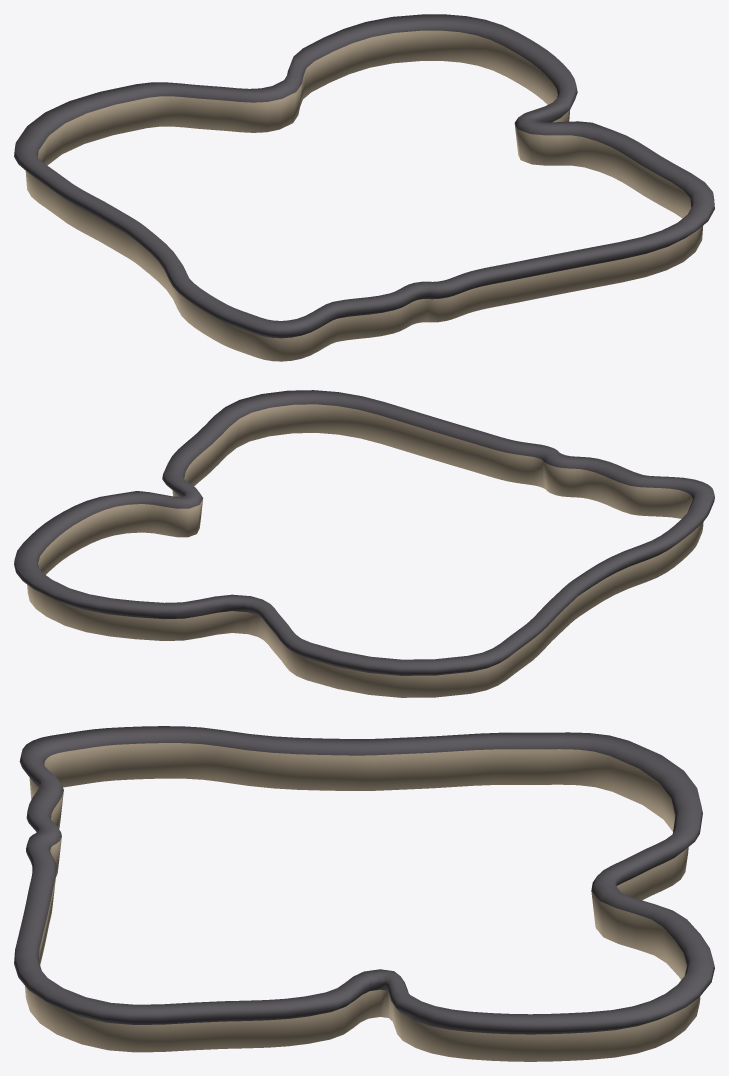
The model's file is SM_SkyIsland_VolcanicsBase.fbx.
3 views of the same model, one above another, from view 1: azimuth 30°, elevation 25°; view 2: azimuth 150°, elevation 25°; view 3: azimuth 270°, elevation 25° (orthographic). The views are drawn at different scales.
Visible parts, largest first — view 1: BezierCircle.009; view 2: BezierCircle.009; view 3: BezierCircle.009.
Boxes of the visible parts, bbox=[...] form: BezierCircle.009: bbox=[14, 14, 714, 361]; BezierCircle.009: bbox=[14, 390, 714, 697]; BezierCircle.009: bbox=[14, 726, 714, 1061].
Bounding box in the file's own units: 834 × 57.49 × 828.
